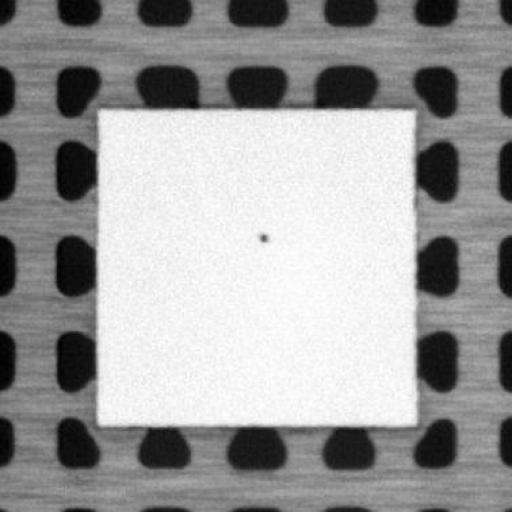DIE_INK: (256, 228, 270, 243)
